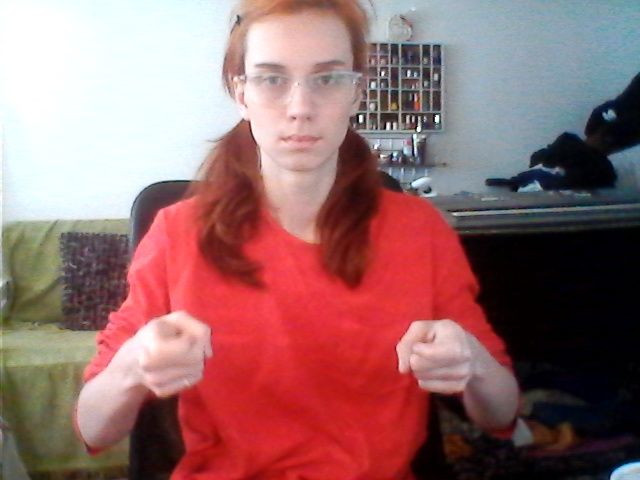davat: (125, 298, 473, 406)
